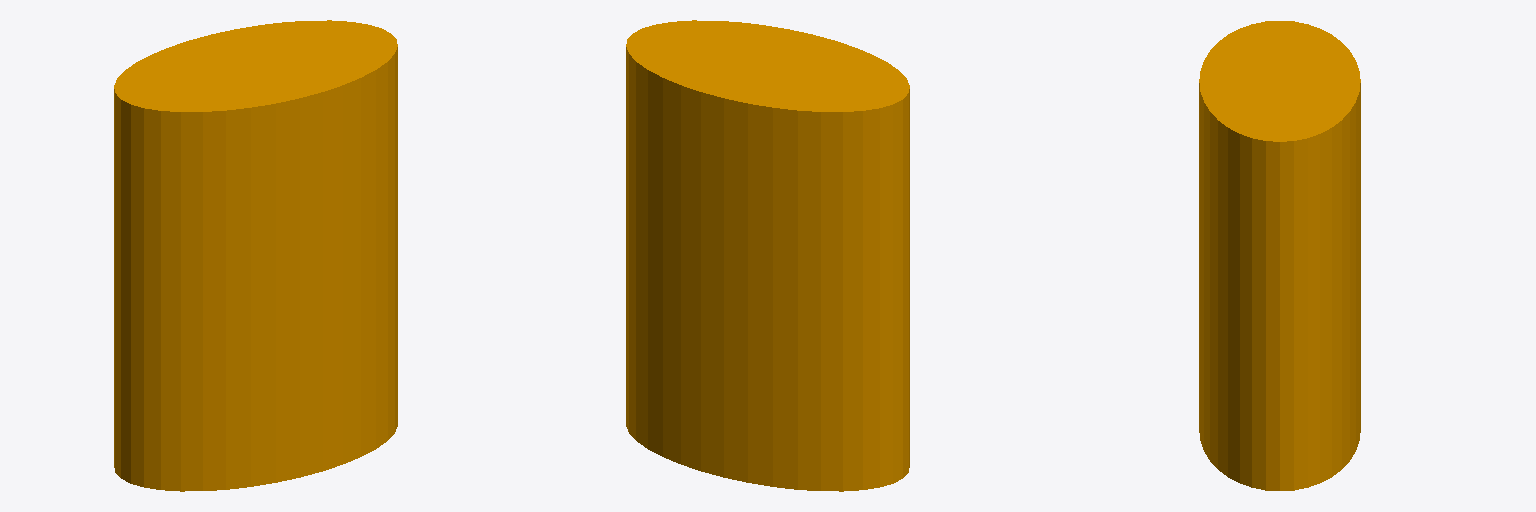
URDF robot description (model.urdf):
<?xml version="0.0" ?>
<robot name="model.urdf">
  <link name="baseLink">
    <contact>
      <friction_anchor/>
      <lateral_friction value="1.0"/>
      <spinning_friction value="0.03"/>
      <rolling_friction value="0.0"/>
      <contact_cfm value="0.1"/>
      <contact_erp value="1.0"/>
    </contact>
    <inertial>
       <origin rpy="0 0 0" xyz="0 0 -0.01"/>
       <mass value=".100"/>
       <inertia ixx="1e-3" ixy="0" ixz="0" iyy="1e-3" iyz="0" izz="1e-3"/>
    </inertial>
    <visual>
      <geometry>
        <mesh filename="mesh.obj" scale="1 1 1"/>
      </geometry>
    </visual>
    <collision>
      <geometry>
    	 	<mesh filename="mesh.obj" scale="1 1 1"/>
      </geometry>
    </collision>
  </link>
</robot>

--- Facts derived from the render (not from the file) ---
The picture shows the robot from 3 angles, left to right: view 1: azimuth 30°, elevation 25°; view 2: azimuth 150°, elevation 25°; view 3: azimuth 270°, elevation 25°; orthographic projection.
Robot: model.urdf — 1 links, 0 joints (none); root link baseLink; default pose: all joints at 0.
Visible links, largest first — view 1: baseLink; view 2: baseLink; view 3: baseLink.
Boxes of the visible links, x1,y1,x2,y2 form: baseLink: (114, 20, 397, 491); baseLink: (626, 20, 909, 491); baseLink: (1199, 21, 1360, 490).
Bounding box of the posed robot: 0.0607 × 0.0341 × 0.0815 m (x, y, z).
Meshes: 1 distinct files referenced, 1 mesh visuals loaded (1 OBJ).